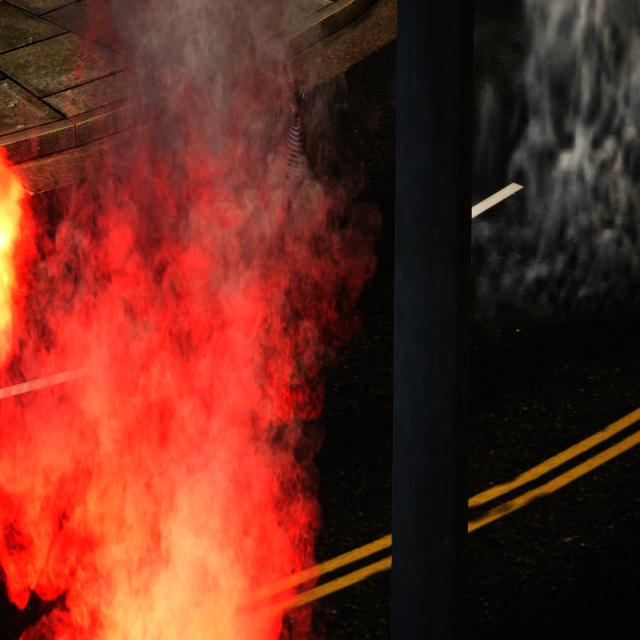Human: (280, 62, 314, 255)
